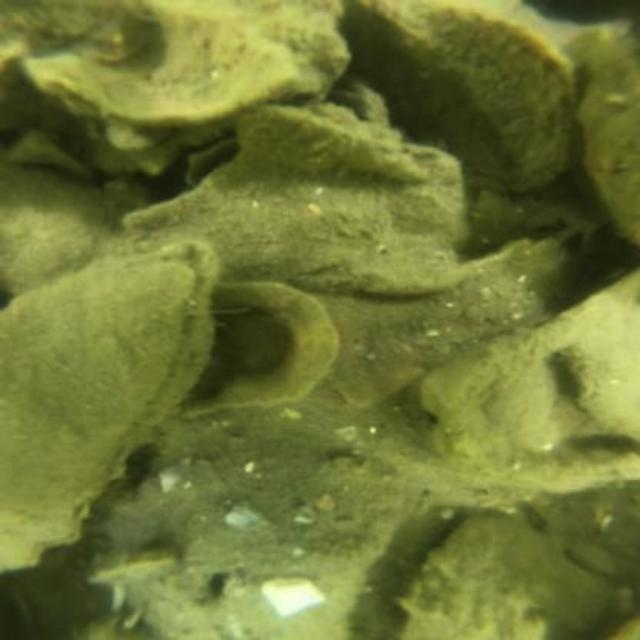Oyster-Closed: (1, 240, 220, 573), (120, 114, 468, 293), (94, 449, 415, 637), (417, 260, 638, 494), (346, 7, 575, 195), (25, 0, 350, 117), (164, 276, 345, 424), (402, 515, 606, 635), (225, 105, 432, 179), (557, 269, 638, 444), (575, 28, 638, 244), (5, 165, 102, 289), (219, 558, 362, 638)
